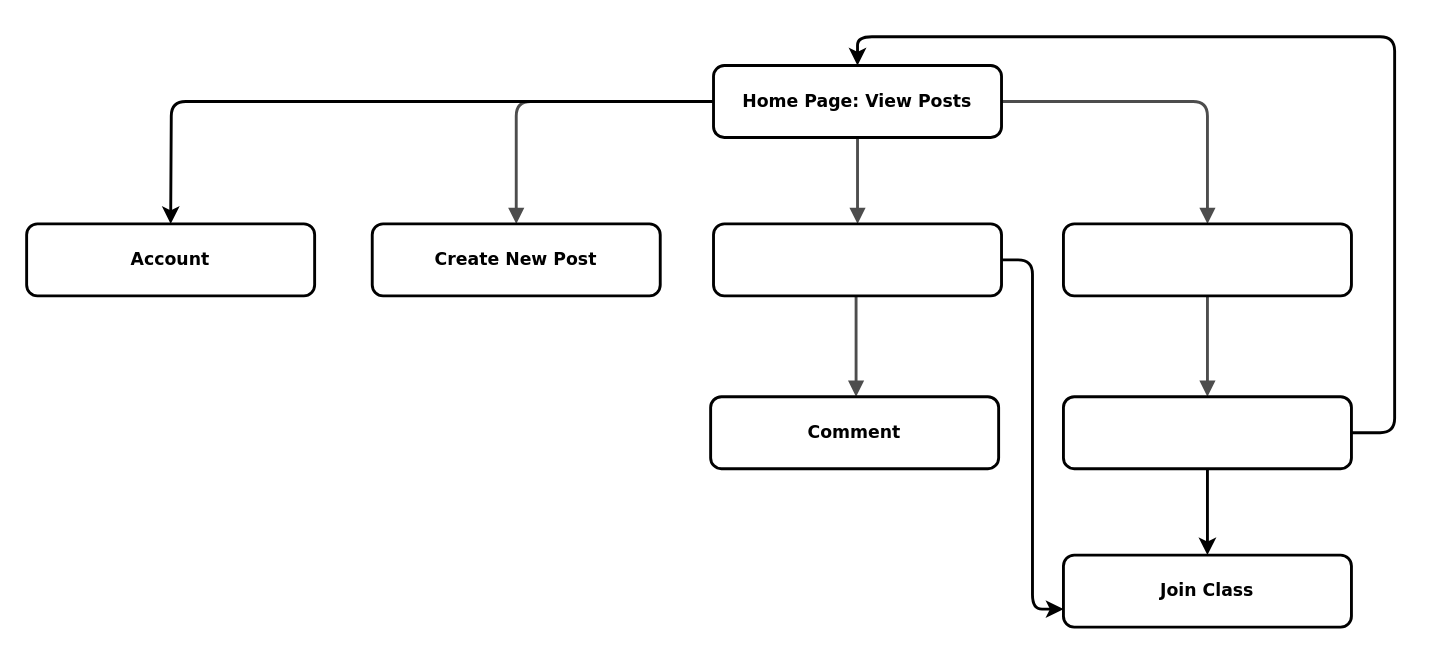
This 1431x652 diagram has some shape labels left out. Each missing label, with the box of its shape:
Search: (1061, 222, 1352, 297)
Search Result: (1061, 395, 1352, 469)
See Detailed Post: (711, 222, 1002, 297)
